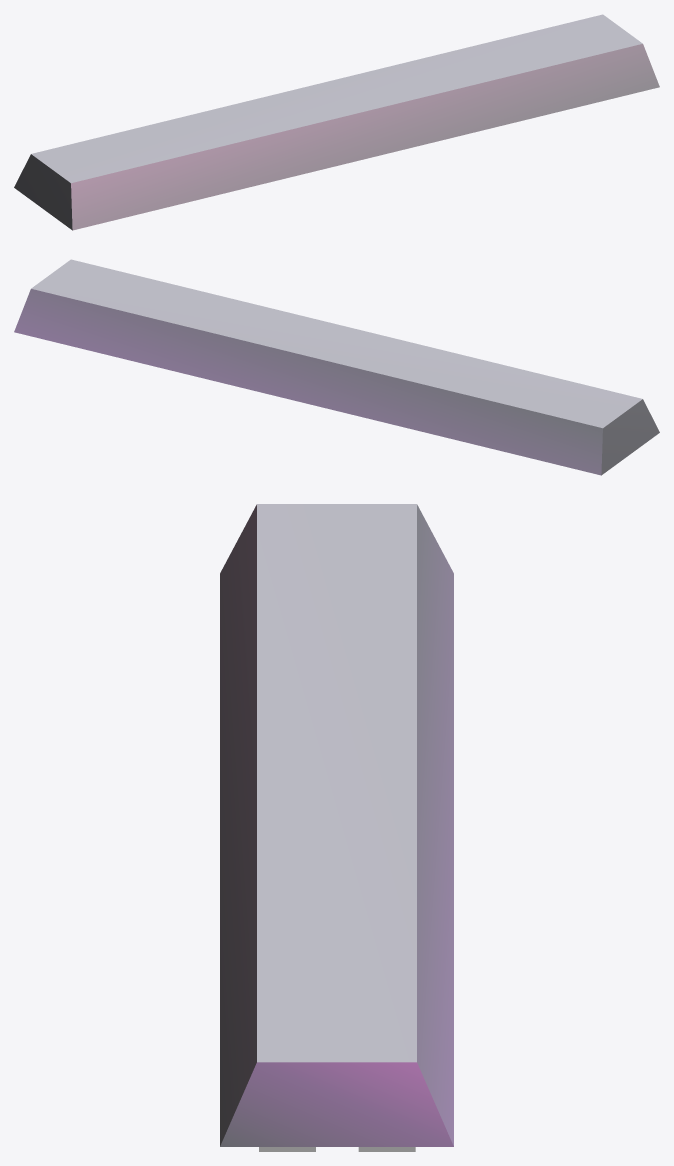
Rendered from flourecent_mounted_fixture.FBX.
The picture shows the model from 3 angles, top to bottom: view 1: azimuth 30°, elevation 25°; view 2: azimuth 150°, elevation 25°; view 3: azimuth 270°, elevation 25°; orthographic projection. The views are drawn at different scales.
Parts seen in each view (by area): view 1: fluorecent ceiling lamp; view 2: fluorecent ceiling lamp; view 3: fluorecent ceiling lamp.
Boxes of the visible parts, left/top/right/bottom form: fluorecent ceiling lamp: left=14, top=14, right=659, bottom=230; fluorecent ceiling lamp: left=14, top=259, right=659, bottom=475; fluorecent ceiling lamp: left=220, top=504, right=453, bottom=1151.
Bounding box in the file's own units: 0.9705 × 0.0819 × 0.1676.
